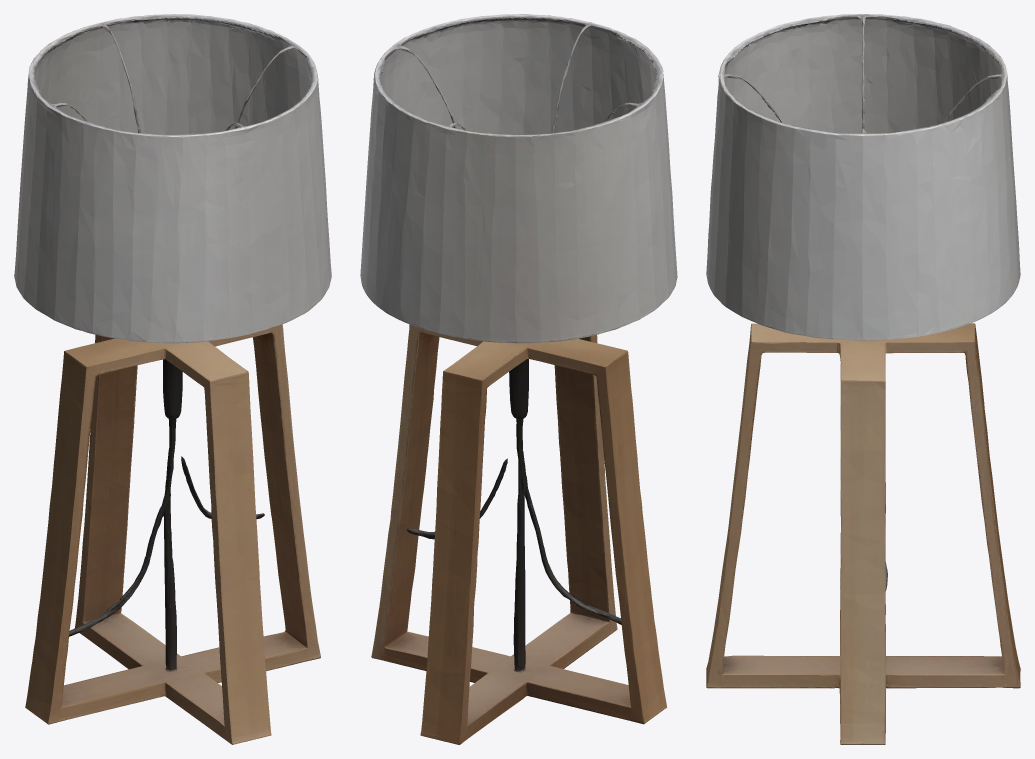
Rendered from 553572d4-2799-4d90-8581-dad30624945b.glb.
The picture shows the model from 3 angles, left to right: view 1: azimuth 30°, elevation 25°; view 2: azimuth 150°, elevation 25°; view 3: azimuth 270°, elevation 25°; orthographic projection.
Visible parts, largest first — view 1: world; view 2: world; view 3: world.
Boxes of the visible parts, x1,y1,x2,y2 form: world: (14, 14, 331, 744); world: (360, 14, 677, 744); world: (706, 14, 1020, 744).
Size of the model in its own units: 0.4716 by 1 by 0.4716.
Materials: 1 (1 with a texture image).
